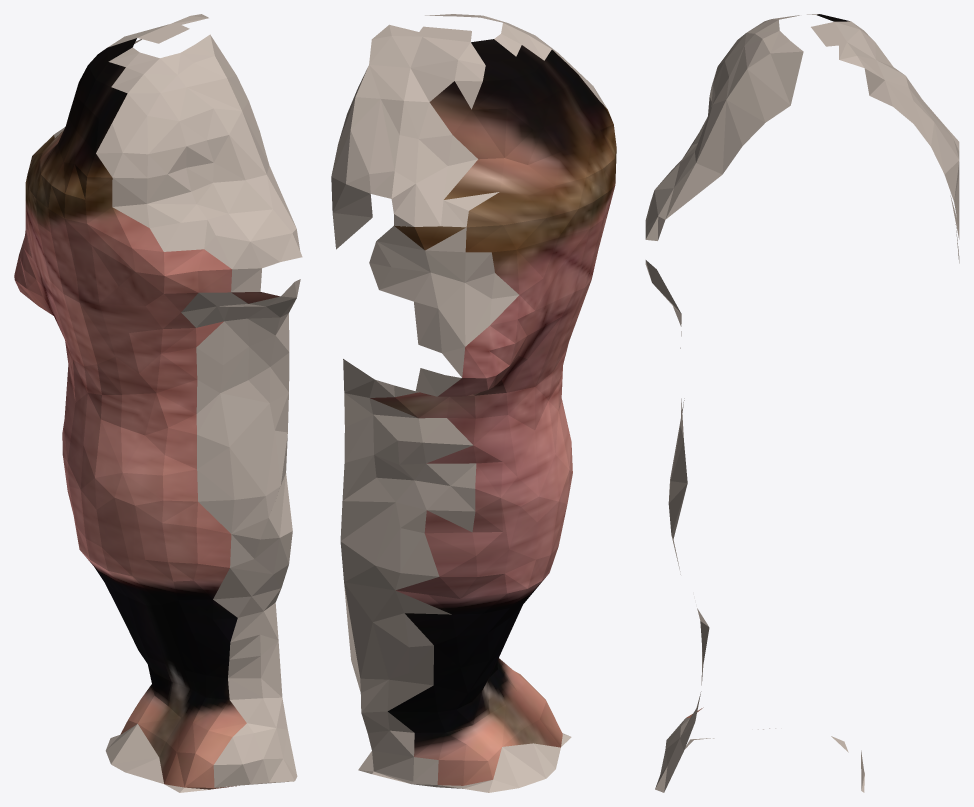
3 renders of one model, left to right at view 1: azimuth 30°, elevation 25°; view 2: azimuth 150°, elevation 25°; view 3: azimuth 270°, elevation 25°, orthographic. The views are drawn at different scales.
Size of the model in its own units: 0.3422 by 1.22 by 0.4732.
Materials: 1 (1 with a texture image).
